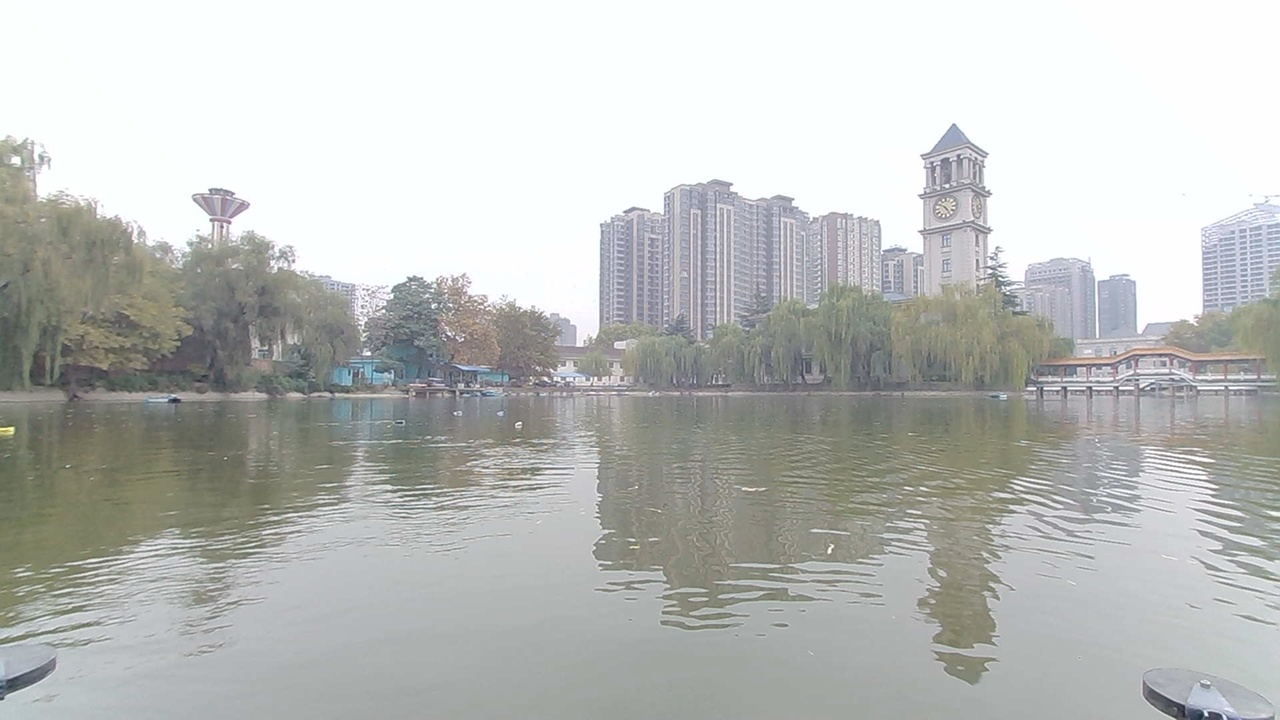bottle: (502, 414, 540, 440), (483, 398, 521, 423), (383, 413, 415, 435), (446, 402, 474, 427), (0, 419, 21, 443)
